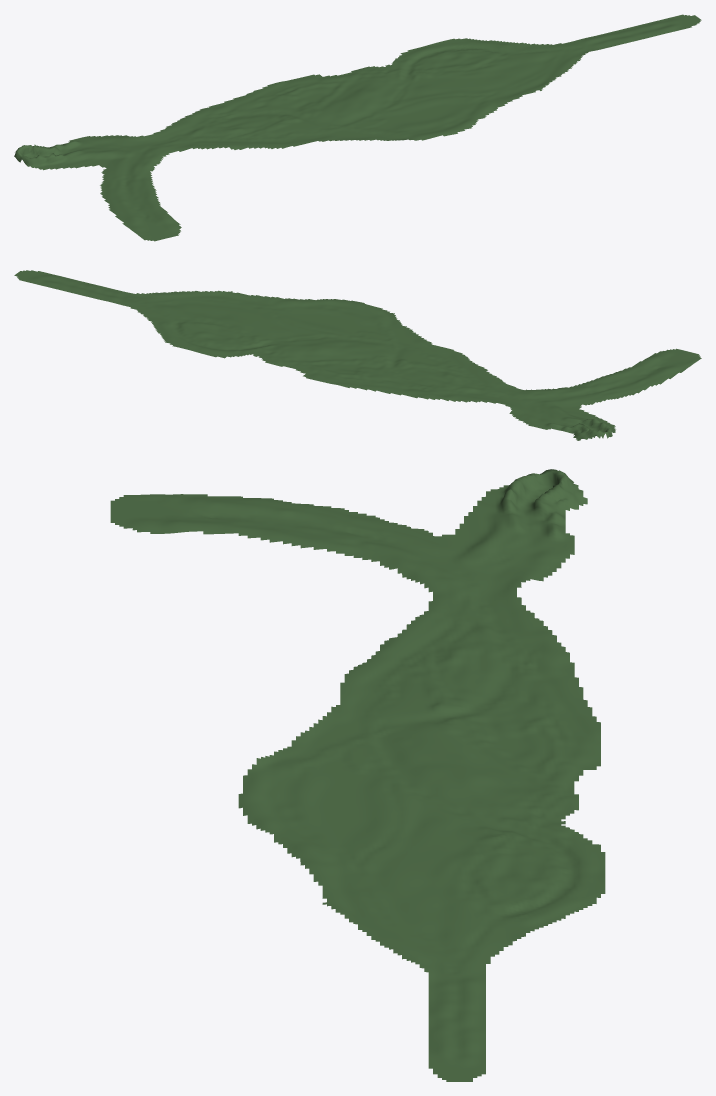
File: Terrain_model.fbx
3 views of the same model, one above another, from view 1: azimuth 30°, elevation 25°; view 2: azimuth 150°, elevation 25°; view 3: azimuth 270°, elevation 25° (orthographic). The views are drawn at different scales.
Visible parts, largest first — view 1: pPlane3; view 2: pPlane3; view 3: pPlane3.
Part boxes in pixels (bbox=[...]): pPlane3: bbox=[14, 14, 701, 241]; pPlane3: bbox=[14, 270, 701, 440]; pPlane3: bbox=[110, 469, 605, 1081].
Size of the model in its own units: 1607 by 24.52 by 560.
